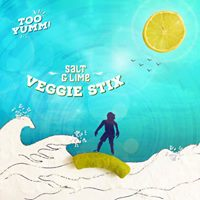tooyumm: (11, 9, 56, 37)
